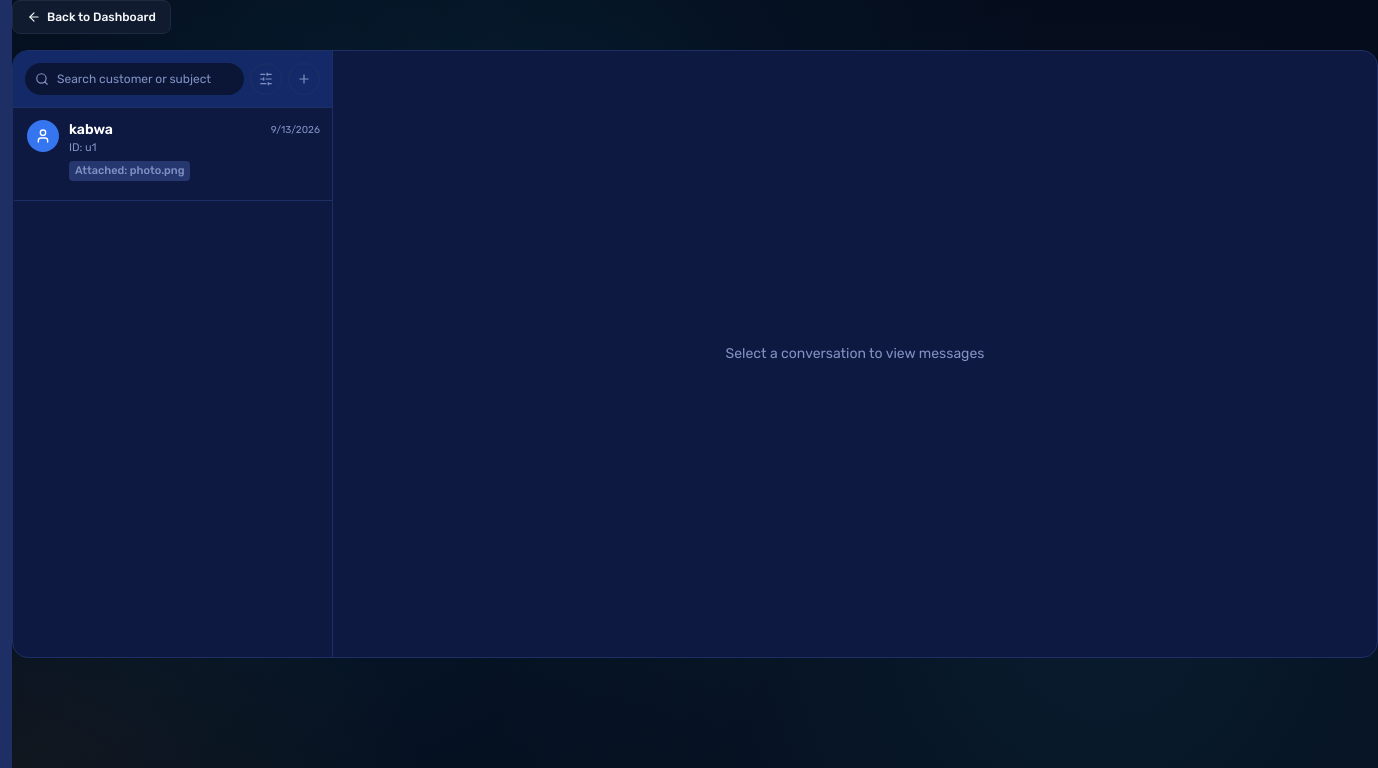
Test: Admin SupportPage › renders a non-image attachment as a filename download link, not an image
This screenshot has width=1378, height=768.
Click the text "kabwa" at (91,130), box [69,120,113,140]
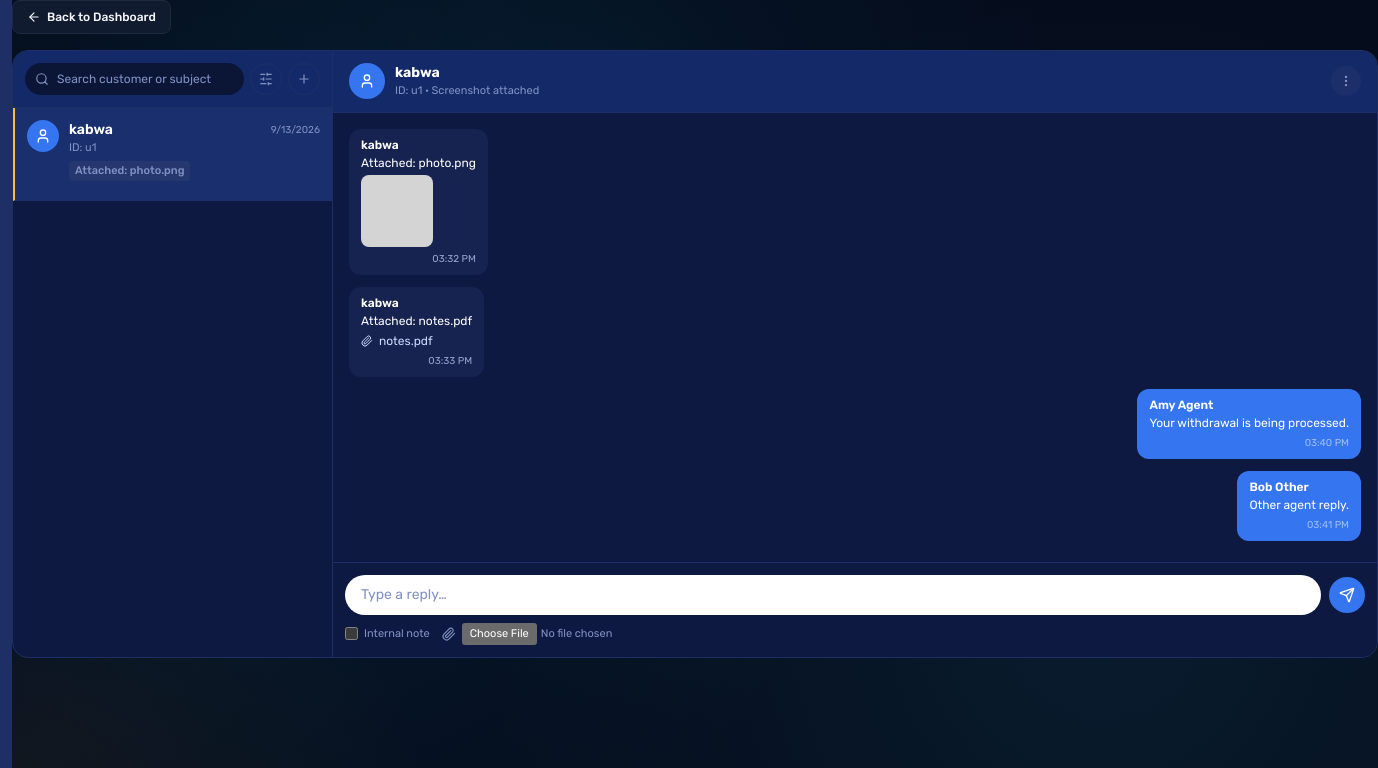
Check: the text "notes.pdf" is shown, box [379,332,433,348]
